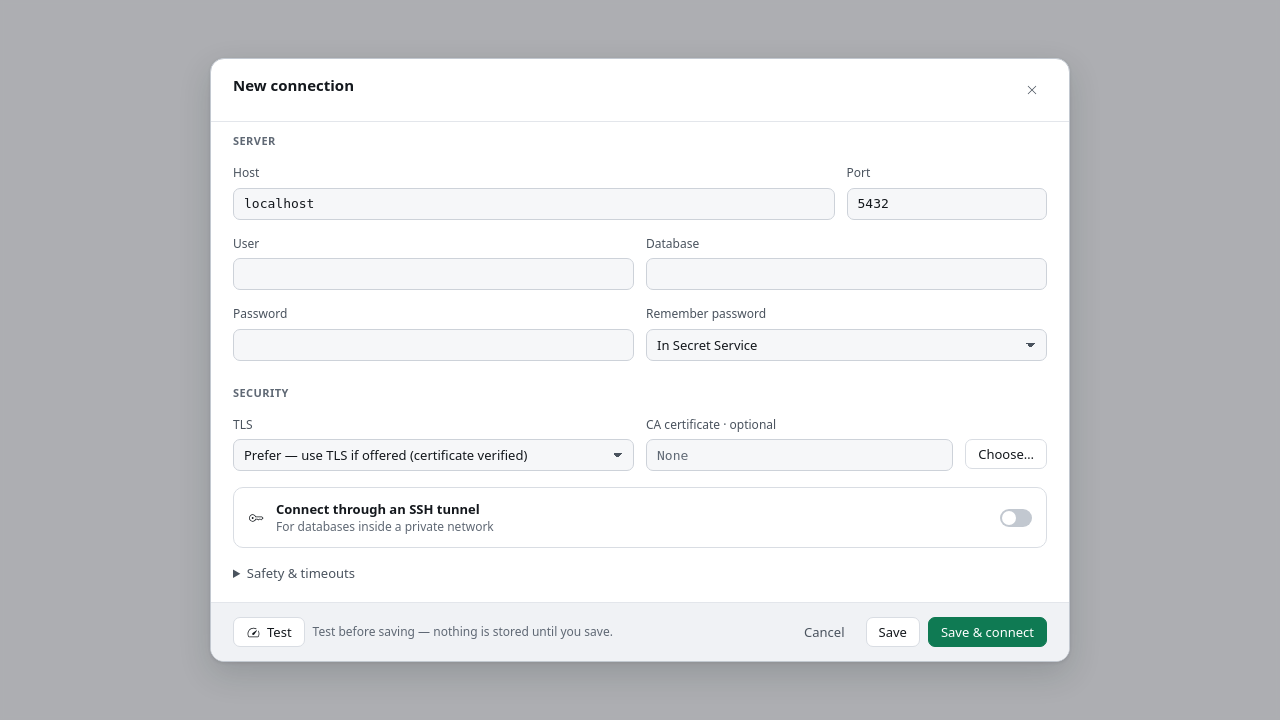
Test: ConnectionForm › warns about unverified TLS
(page scrolled)
Select "Require, skip certificate verification" in the dropdown named "TLS" at (434, 455), box [233, 439, 634, 471]
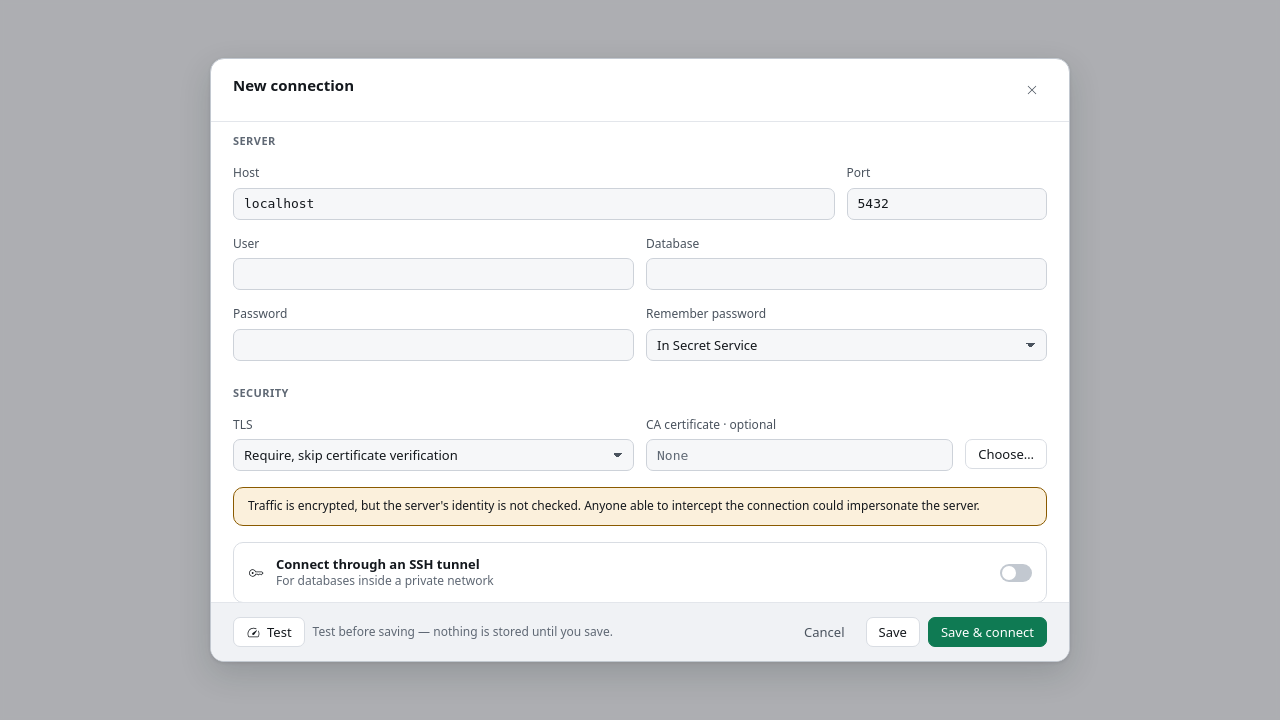
Expected: the text "server's identity is not checked" is shown, [248, 497, 980, 514]
